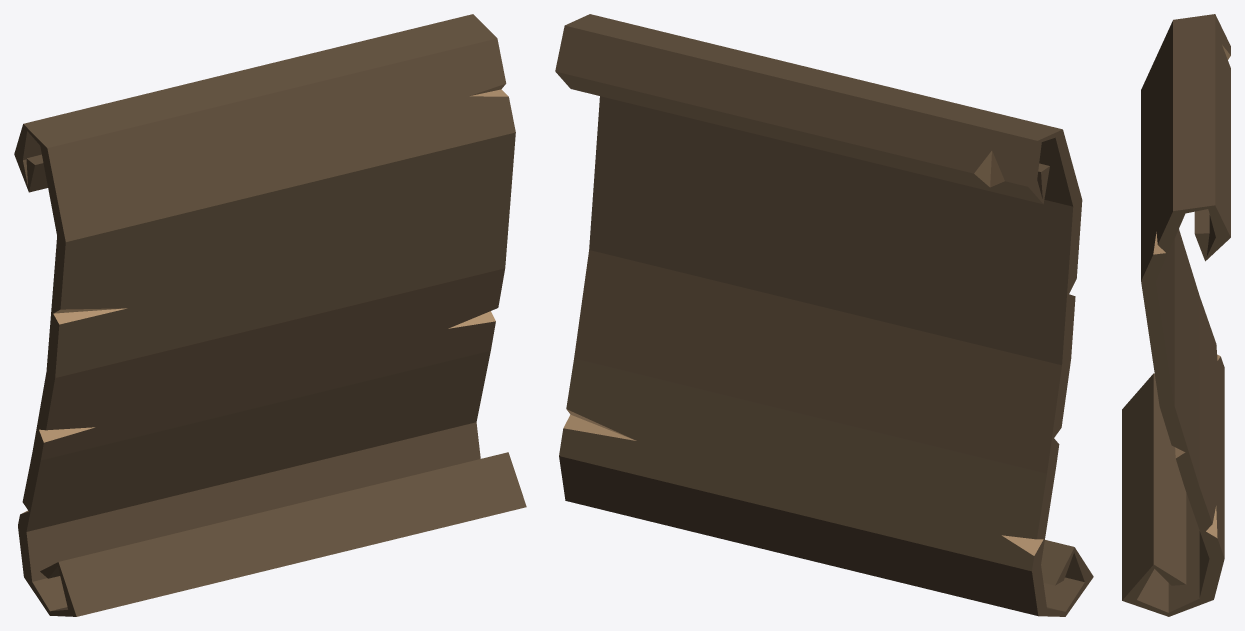
The model's file is Parchment_1_Brown.fbx.
The picture shows the model from 3 angles, left to right: view 1: azimuth 30°, elevation 25°; view 2: azimuth 150°, elevation 25°; view 3: azimuth 270°, elevation 25°; orthographic projection. The views are drawn at different scales.
Visible parts, largest first — view 1: Parchment_1_Brown_Part_1, Parchment_1_Brown_Part_2; view 2: Parchment_1_Brown_Part_1, Parchment_1_Brown_Part_2; view 3: Parchment_1_Brown_Part_1, Parchment_1_Brown_Part_2.
Boxes of the visible parts, box(x1,y1,x2,y2) form: Parchment_1_Brown_Part_1: box(14, 14, 526, 616); Parchment_1_Brown_Part_2: box(21, 84, 508, 513); Parchment_1_Brown_Part_1: box(555, 14, 1093, 616); Parchment_1_Brown_Part_2: box(563, 151, 1043, 555); Parchment_1_Brown_Part_1: box(1122, 14, 1230, 616); Parchment_1_Brown_Part_2: box(1153, 45, 1230, 538).
Size of the model in its own units: 30 by 30.1 by 7.22.
